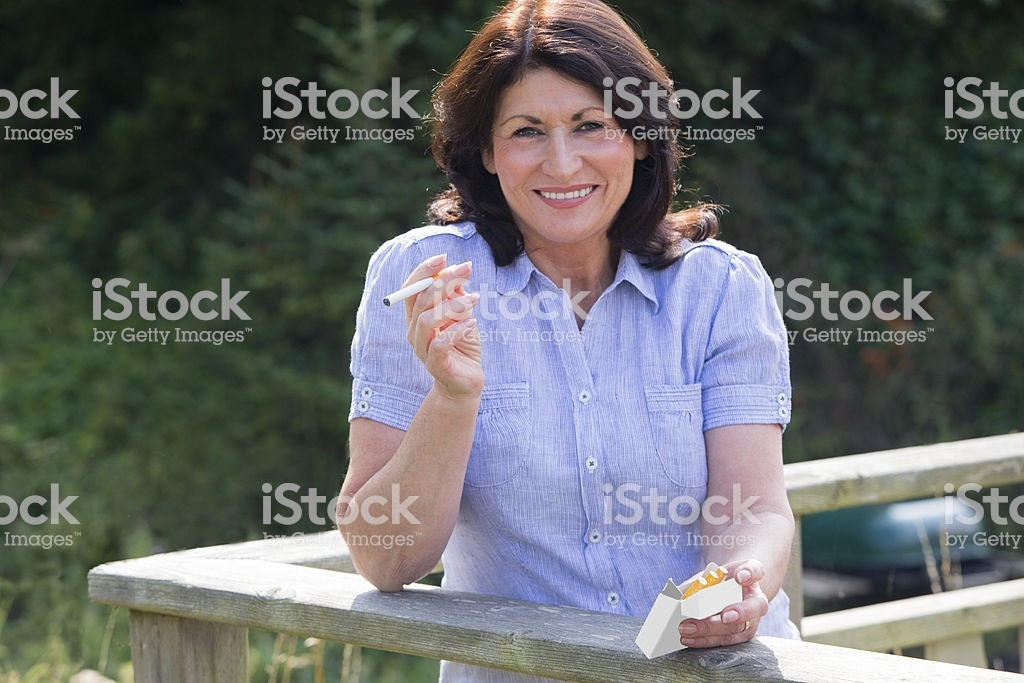sigaretta: (376, 261, 468, 306)
